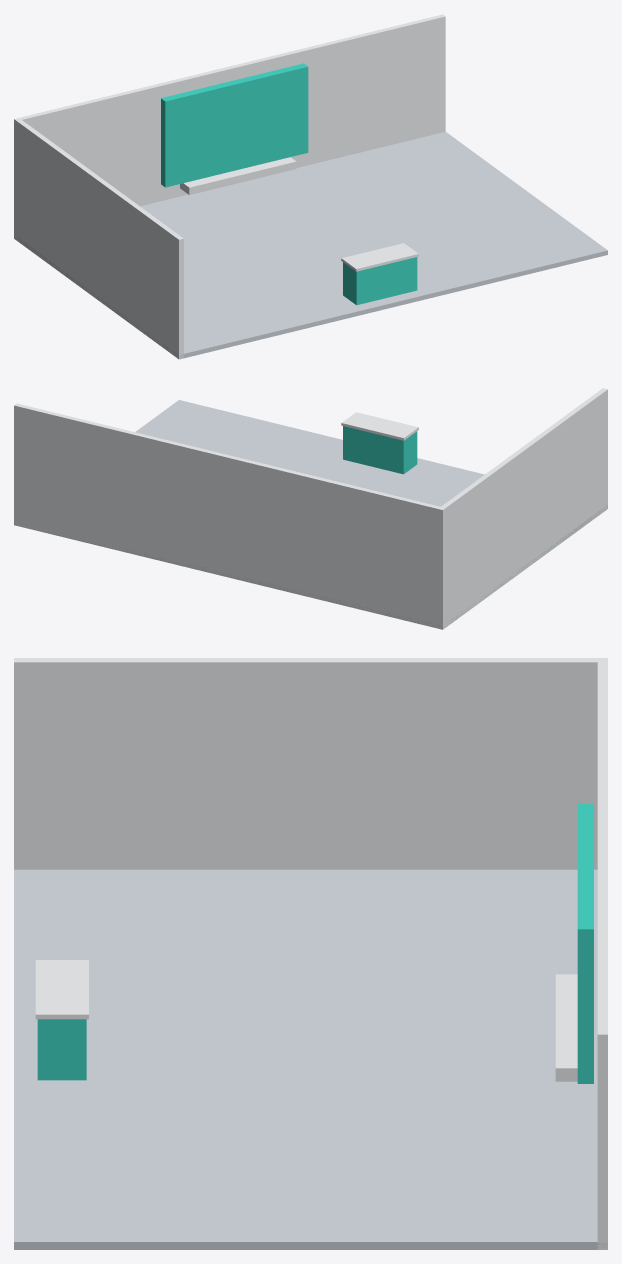
3 views of the same model, one above another, from view 1: azimuth 30°, elevation 25°; view 2: azimuth 150°, elevation 25°; view 3: azimuth 270°, elevation 25° (orthographic). The views are drawn at different scales.
Visible parts, largest first — view 1: Exhibition Booth Concept; view 2: Exhibition Booth Concept; view 3: Exhibition Booth Concept.
Boxes of the visible parts, left/top/right/bottom form: Exhibition Booth Concept: left=14, top=14, right=607, bottom=359; Exhibition Booth Concept: left=14, top=388, right=607, bottom=629; Exhibition Booth Concept: left=14, top=658, right=607, bottom=1249.
Size of the model in its own units: 12 by 3.2 by 8.
